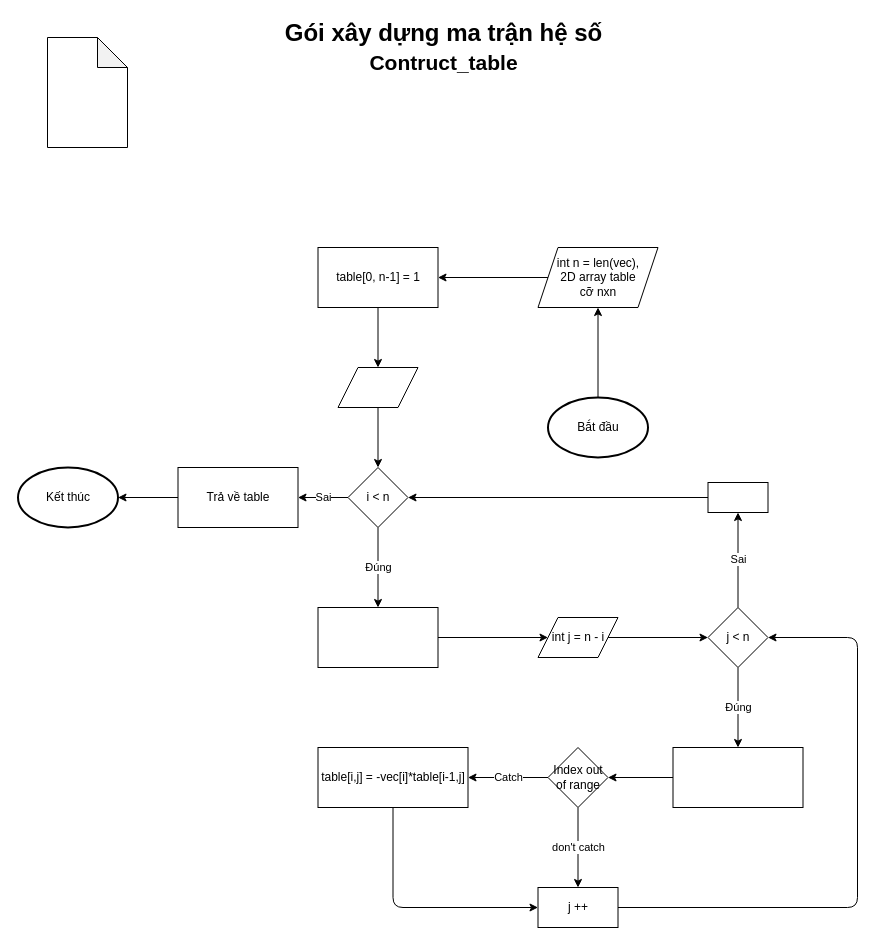
The diagram is 883 pixels wide and 945 high, and some of its shapes have lost their labels. The centre of each missing label's shape, as x and y in pixels:
"i ++" belongs at pixel 737 497.
"Input: Mảng 1 chiều vec Output: Mảng hệ số 2 chiều table" belongs at pixel 87 92.
"int i = 1" belongs at pixel 377 387.
"table[i, n-i-1] = 1" belongs at pixel 377 637.
"table[i,j] = table[i-1,j+1] - vec[i]*table[i-1,j]" belongs at pixel 737 777.
